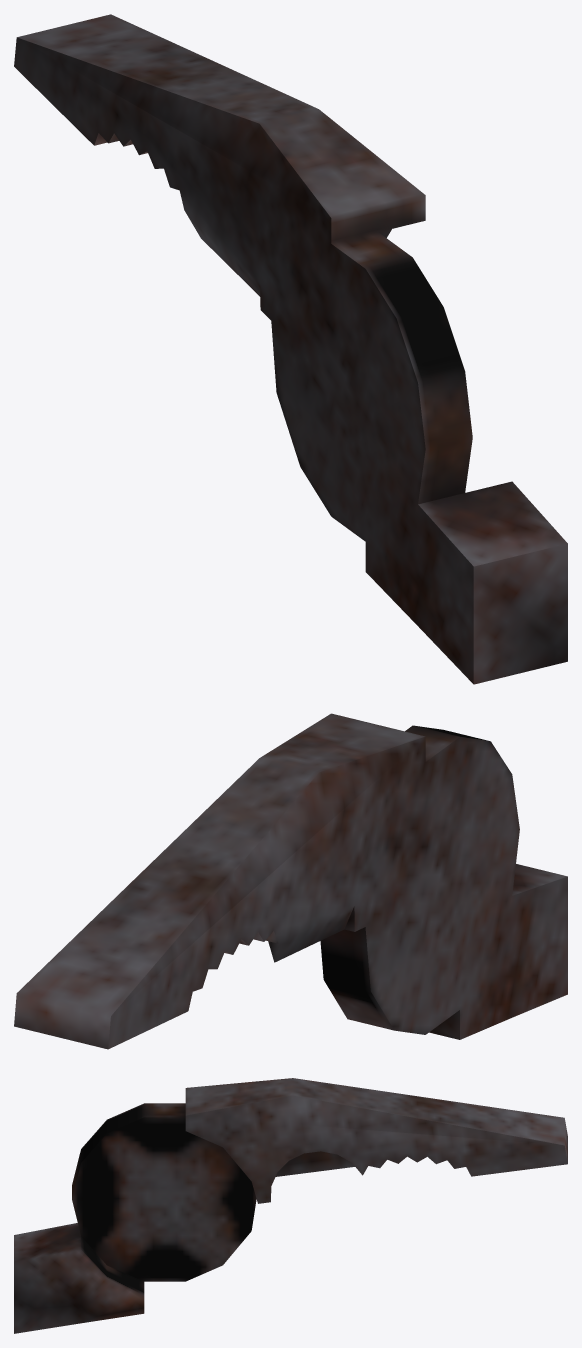
File: Pliers_Jaw_Left_low.obj
3 views of the same model, one above another, from view 1: azimuth 30°, elevation 25°; view 2: azimuth 150°, elevation 25°; view 3: azimuth 270°, elevation 25° (orthographic). The views are drawn at different scales.
Bounding box in the file's own units: 0.00595 × 0.0233 × 0.0502.
1 material, 1 textured.
